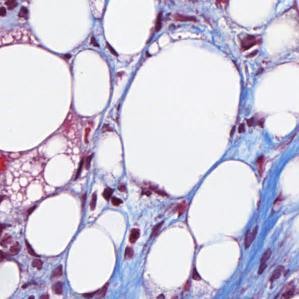inflammation: (82, 181, 127, 212)
